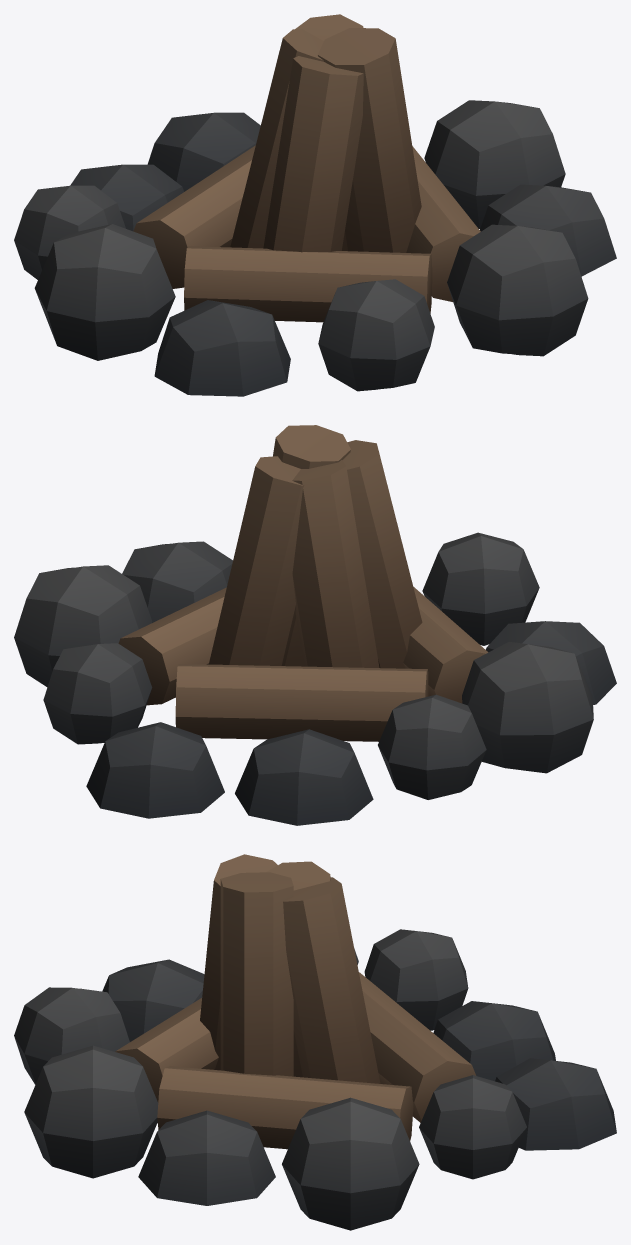
Rendered from Campfire2.fbx.
3 views of the same model, one above another, from view 1: azimuth 30°, elevation 25°; view 2: azimuth 150°, elevation 25°; view 3: azimuth 270°, elevation 25° (orthographic). The views are drawn at different scales.
Visible parts, largest first — view 1: Campfire2; view 2: Campfire2; view 3: Campfire2.
Part boxes in pixels (x1=…): Campfire2: x1=14, y1=14, x2=616, y2=396; Campfire2: x1=14, y1=425, x2=616, y2=825; Campfire2: x1=14, y1=854, x2=616, y2=1230.
Size of the model in its own units: 223 by 105 by 220.
